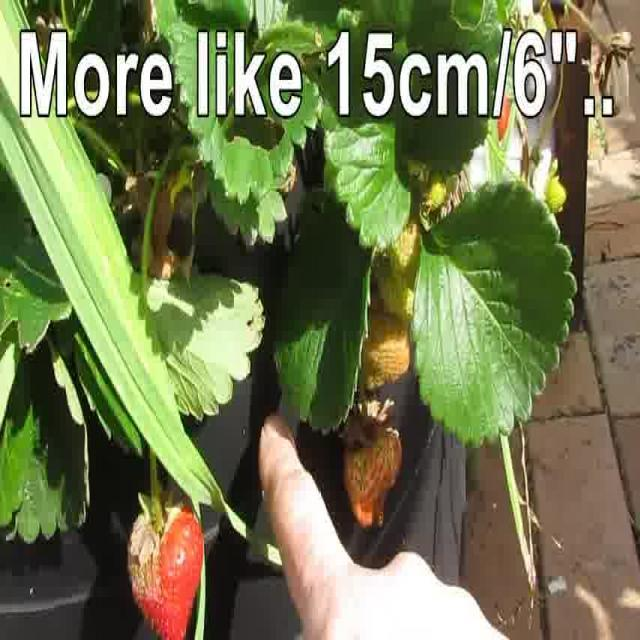Moho gris: (129, 500, 206, 640)
